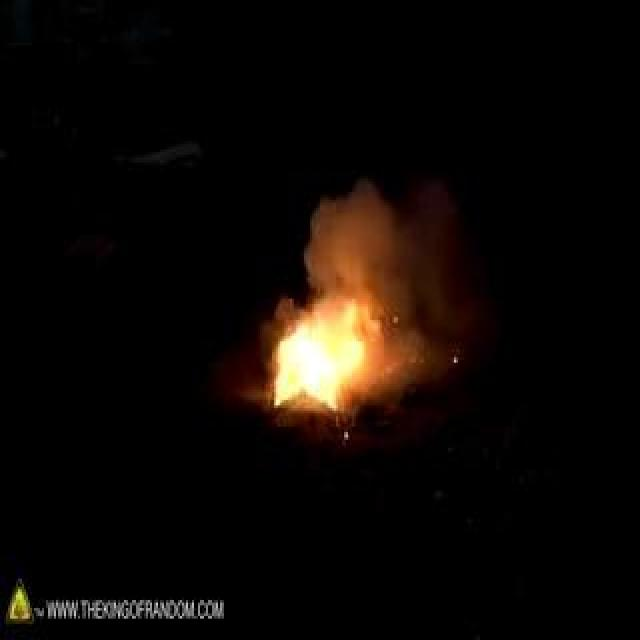Fire: (118, 186, 306, 350)
